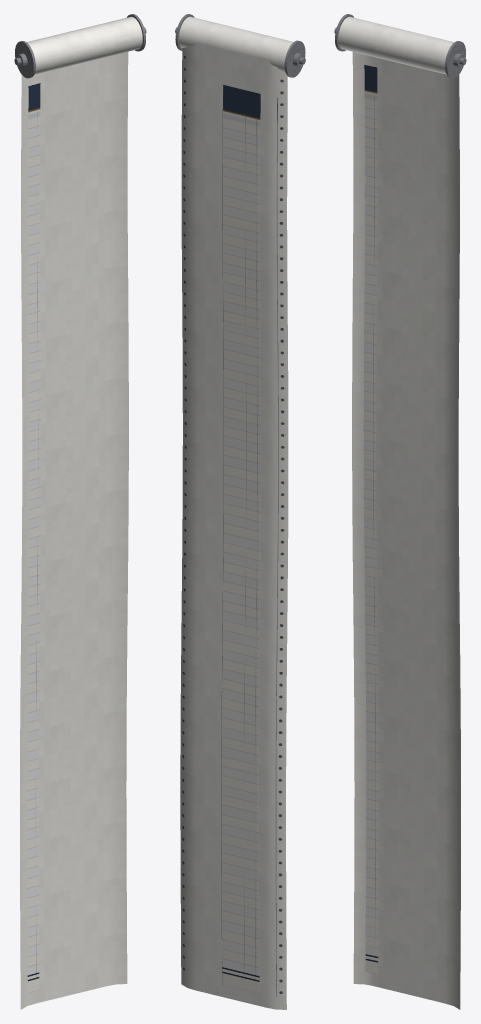
File: electricity_bill.glb
The picture shows the model from 3 angles, left to right: view 1: azimuth 30°, elevation 25°; view 2: azimuth 150°, elevation 25°; view 3: azimuth 330°, elevation 25°; orthographic projection.
Parts seen in each view (by area): view 1: Strip, Numbers, Roll; view 2: Strip, Numbers, Roll, Perforations; view 3: Strip, Numbers, Roll.
Boxes of the visible parts, x1=… form: Strip: x1=20, y1=52, x2=128, y2=1009; Numbers: x1=27, y1=83, x2=41, y2=992; Roll: x1=14, y1=14, x2=146, y2=78; Strip: x1=180, y1=43, x2=288, y2=1009; Numbers: x1=221, y1=84, x2=278, y2=996; Roll: x1=175, y1=14, x2=305, y2=77; Perforations: x1=182, y1=56, x2=284, y2=993; Strip: x1=352, y1=52, x2=460, y2=1009; Numbers: x1=363, y1=64, x2=378, y2=974; Roll: x1=334, y1=14, x2=466, y2=78.
Size of the model in its own units: 8.45 by 61.08 by 2.25.
4 materials, 3 textured.
